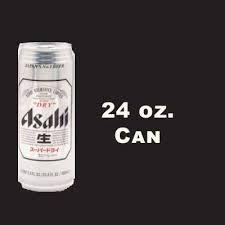beer: (18, 40, 76, 192)
